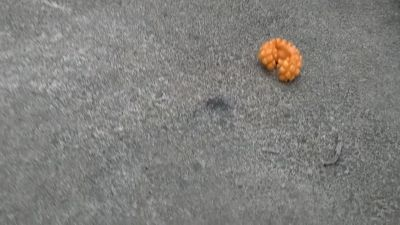eggs: (256, 36, 304, 84)
